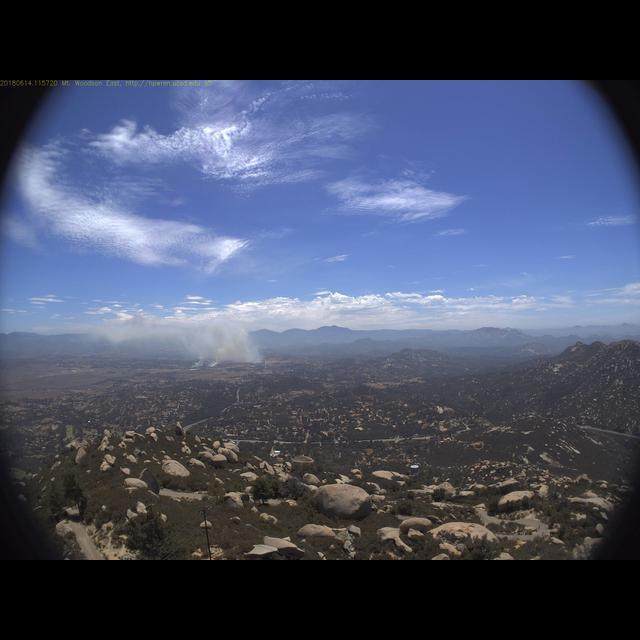Smoke: (111, 311, 264, 365)
